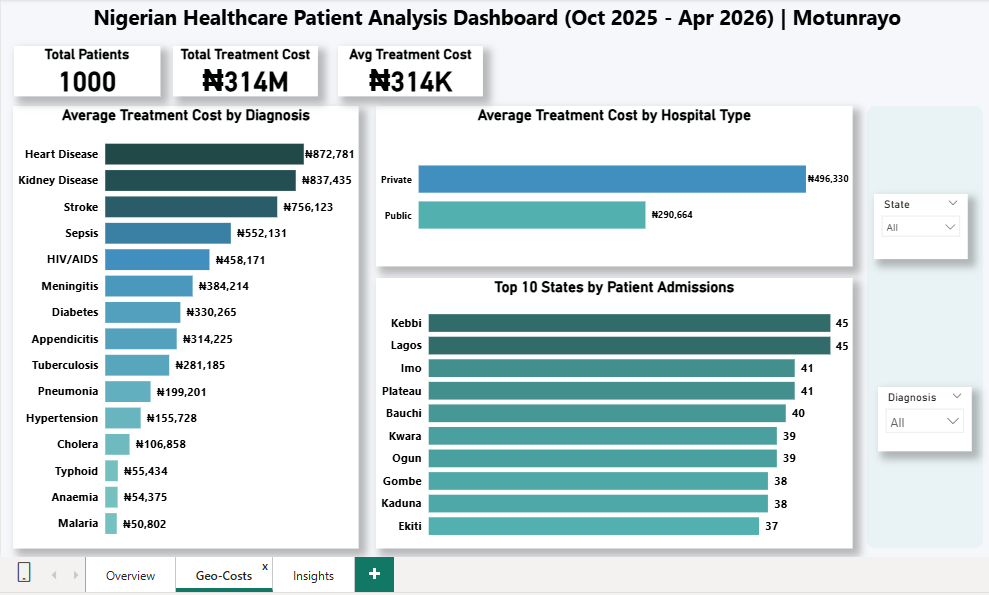

Layout of this report page (visuals, bound fields, positions):
{"tool":"powerbi","page":{"name":"Geo-Costs","canvas":[1280,720],"ordinal":1},"visuals":[{"type":"clusteredBarChart","fields":{"Category":["nigerian_healthcare.Diagnosis"],"Y":["nigerian_healthcare.Average Treatment Cost"]},"box":[15.6,137.5,446.5,571.2],"z":0},{"type":"shape","box":[1117.4,138.1,149.7,570.3],"z":0,"group":"g1"},{"type":"textbox","box":[0,0,1280,50.1],"z":1000},{"type":"clusteredBarChart","title":"Average Treatment Cost by Hospital Type","fields":{"Category":["nigerian_healthcare.Hospital_Type"],"Y":["nigerian_healthcare.Average Treatment Cost"]},"box":[483.3,137.5,615.1,206.9],"z":2000},{"type":"slicer","fields":{"Values":["nigerian_healthcare.State"]},"box":[1126,251.2,121.2,84.1],"z":2000,"group":"g1"},{"type":"card","title":"Total Patients","fields":{"Values":["nigerian_healthcare.Total Patients"]},"box":[17,60.9,188.5,65.2],"z":3000},{"type":"card","title":"Total Treatment Cost","fields":{"Values":["nigerian_healthcare.Total Treatment Cost"]},"box":[222.5,60.9,187.1,65.2],"z":4000},{"type":"clusteredBarChart","title":"Top 10 States by Patient Admissions ","fields":{"Category":["nigerian_healthcare.State"],"Y":["nigerian_healthcare.Total Patients"]},"box":[483.3,360,615.1,348.7],"z":5000},{"type":"card","title":"Avg Treatment Cost","fields":{"Values":["nigerian_healthcare.Average Treatment Cost"]},"box":[435.1,60.9,187.1,65.2],"z":6000},{"type":"group","id":"g1","title":"Group 1","box":[1117.4,138.1,149.7,570.3],"z":6001},{"type":"slicer","fields":{"Values":["nigerian_healthcare.Diagnosis"]},"box":[1131.7,500.3,121.2,83],"z":8000,"group":"g1"}]}

Visuals, with their boxes on the page's 1280x720 design canvas (x1, y1, x2, y2). These are canvas units, not pixel positions in the 989x595 screenshot, which may show the page scaled, cropped or inside an application window:
clusteredBarChart - nigerian_healthcare.Diagnosis x nigerian_healthcare.Average Treatment Cost: BBox(16, 138, 462, 709)
shape: BBox(1117, 138, 1267, 708)
textbox: BBox(0, 0, 1280, 50)
"Average Treatment Cost by Hospital Type" clusteredBarChart: BBox(483, 138, 1098, 344)
slicer - nigerian_healthcare.State: BBox(1126, 251, 1247, 335)
"Total Patients" card: BBox(17, 61, 206, 126)
"Total Treatment Cost" card: BBox(222, 61, 410, 126)
"Top 10 States by Patient Admissions " clusteredBarChart: BBox(483, 360, 1098, 709)
"Avg Treatment Cost" card: BBox(435, 61, 622, 126)
"Group 1" group: BBox(1117, 138, 1267, 708)
slicer - nigerian_healthcare.Diagnosis: BBox(1132, 500, 1253, 583)
